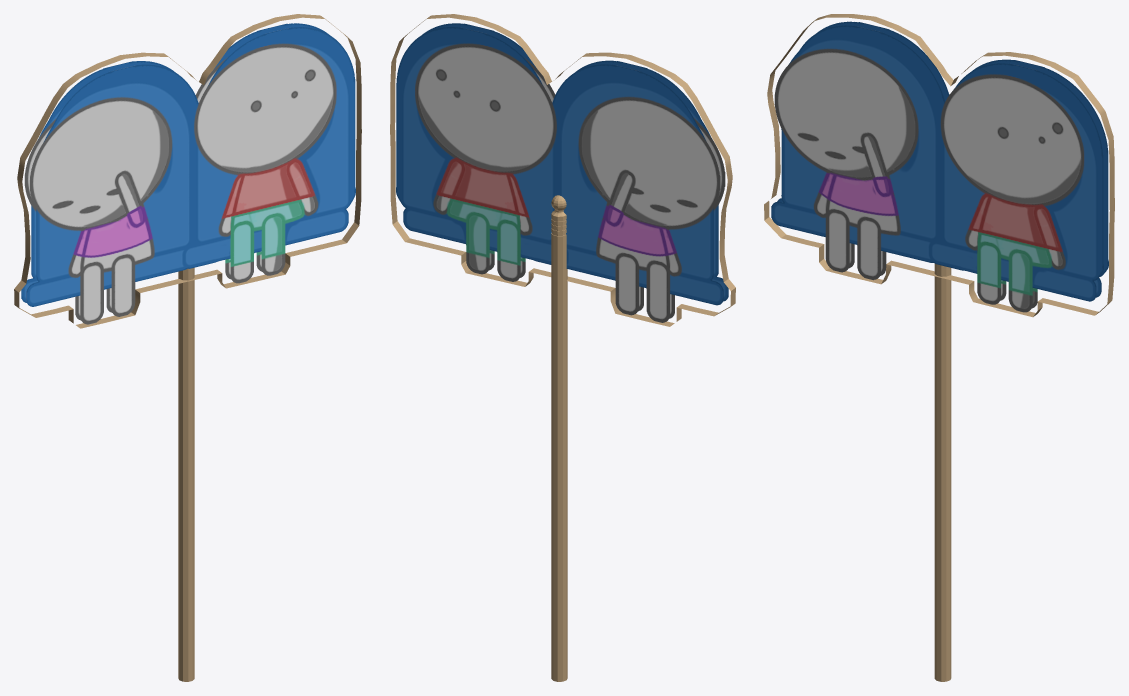
Rendered from Escena5_Asiento01.fbx.
3 renders of one model, left to right at view 1: azimuth 30°, elevation 25°; view 2: azimuth 150°, elevation 25°; view 3: azimuth 330°, elevation 25°, orthographic.
Parts seen in each view (by area): view 1: SCN05; view 2: SCN05; view 3: SCN05.
Boxes of the visible parts, left/top/right/bottom form: SCN05: left=14, top=14, right=361, bottom=681; SCN05: left=390, top=14, right=735, bottom=681; SCN05: left=764, top=14, right=1114, bottom=681.
Bounding box in the file's own units: 0.0791 × 0.1411 × 0.00358.
